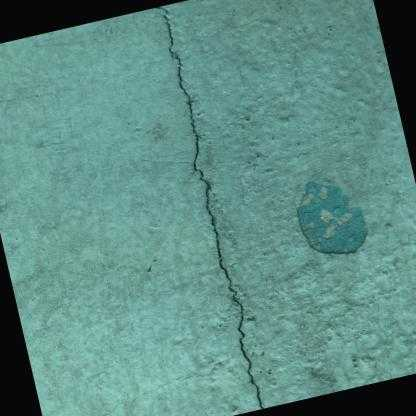crack: (156, 6, 265, 409)
